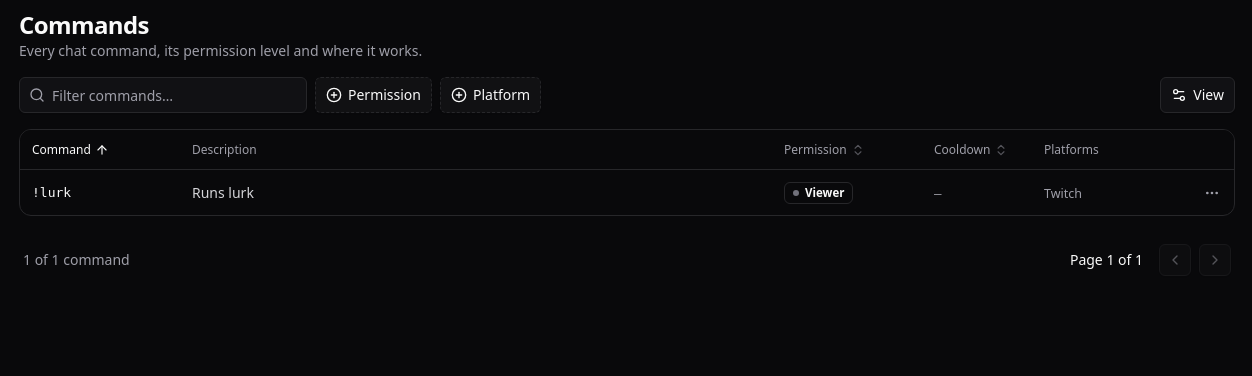
Test: Commands › says so when nothing matches, rather than that none have loaded
The width and height of the screenshot is (1252, 376).
Step 1. Type "nothing" into the field with placeholder "Filter commands…" → x=163, y=95, box left=19, top=77, right=307, bottom=113
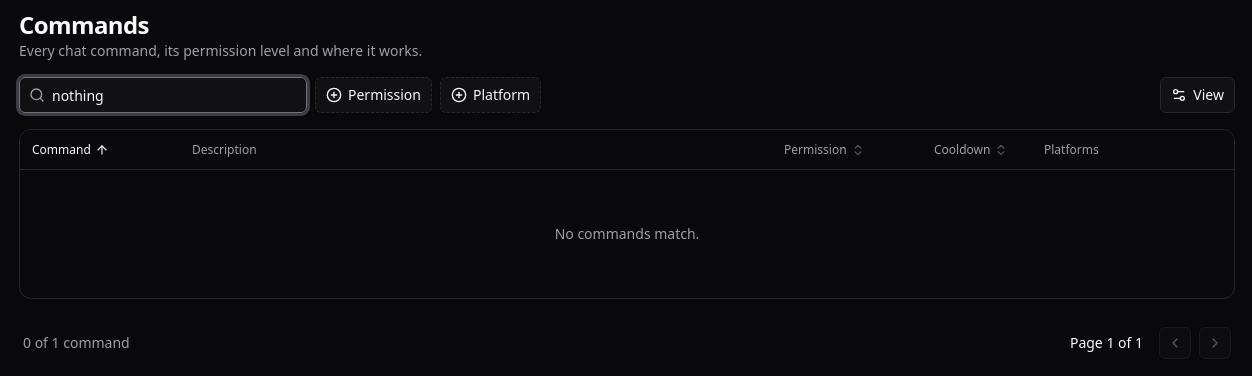
Expected: the text "No commands match." is shown, left=20, top=170, right=1234, bottom=298
